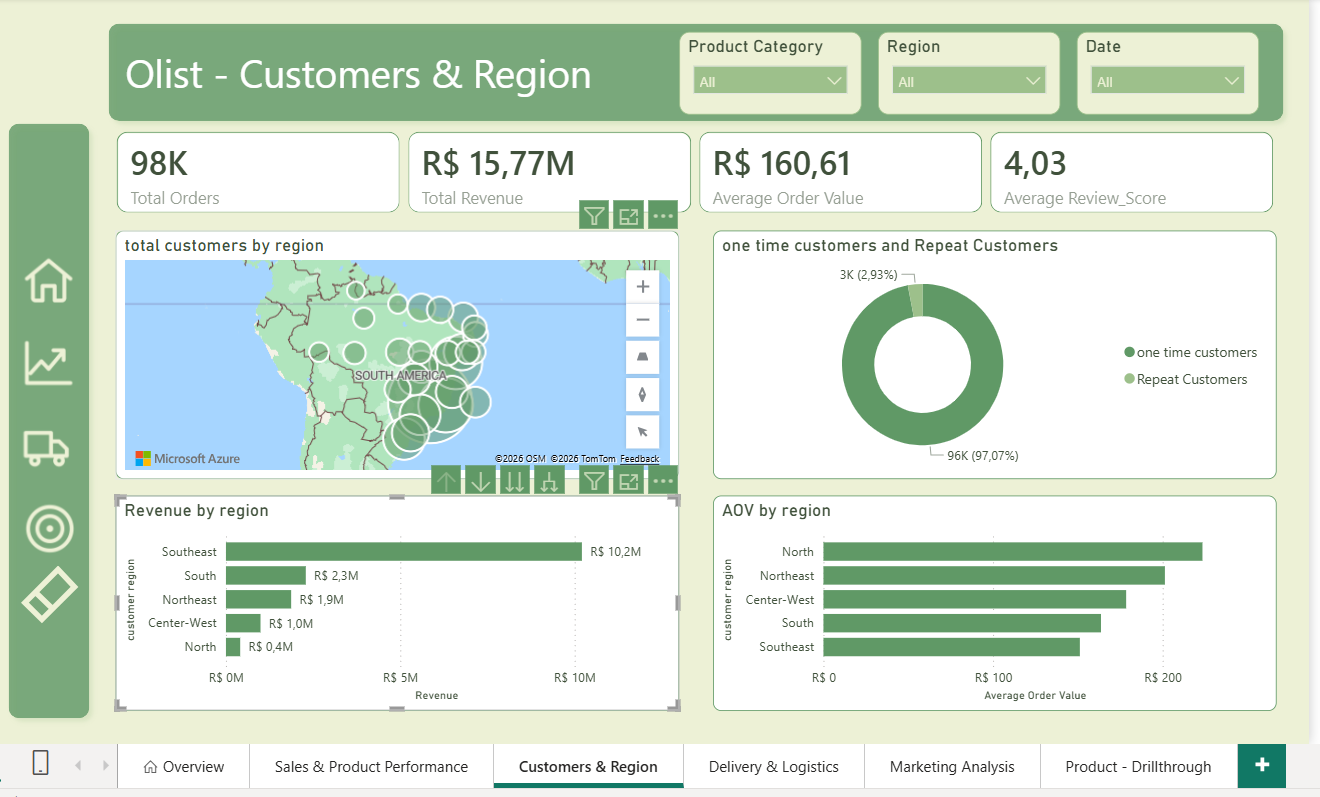

The page's visual inventory and layout, read from the dashboard file:
{"tool":"powerbi","page":{"name":"Customers & Region","canvas":[1280,720],"ordinal":2},"visuals":[{"type":"shape","box":[112,16,1152,112],"z":0},{"type":"shape","box":[16.1,112,96,592],"z":0,"group":"g1"},{"type":"slicer","title":"Product Category","fields":{"Values":["olist_products4.product_category_name_english"]},"box":[672,32,176,80],"z":1000},{"type":"actionButton","box":[32.1,240,64,64],"z":1000,"group":"g1"},{"type":"slicer","title":"Region","fields":{"Values":["olist_customers2.customer region Hierarchy.customer region","olist_customers2.customer region Hierarchy.customer_city"]},"box":[864,32,176,80],"z":2000},{"type":"actionButton","box":[32.1,320,64,64],"z":2000,"group":"g1"},{"type":"group","id":"g1","title":"Group 1","box":[16.1,112,96,592],"z":3000},{"type":"actionButton","box":[32.1,400,64,64],"z":3000,"group":"g1"},{"type":"cardVisual","fields":{"Data":["MyMeasure.Total Orders","MyMeasure.Revenue","MyMeasure.Average per Order","Avg(olist_orders1.review_score)"]},"box":[112,112,1152,112],"z":4000},{"type":"actionButton","box":[32.1,544,64,64],"z":5000},{"type":"slicer","title":"Date","fields":{"Values":["Calendar.Year Hierarchy.Year","Calendar.Year Hierarchy.Quarter","Calendar.Year Hierarchy.Month"]},"box":[1056,32,176,80],"z":6000},{"type":"barChart","title":"Revenue by region","fields":{"Y":["MyMeasure.Revenue"],"Category":["olist_customers2.customer region Hierarchy.customer region","olist_customers2.customer region Hierarchy.customer_city"]},"box":[128,480,544,208],"z":7000},{"type":"clusteredBarChart","title":"AOV by region","fields":{"Category":["olist_customers2.customer region Hierarchy.customer region","olist_customers2.customer region Hierarchy.customer_city"],"Y":["MyMeasure.Average Order Value"]},"box":[704,480,544,208],"z":8000},{"type":"donutChart","fields":{"Y":["MyMeasure.total customers","MyMeasure.Repeat Customers"]},"box":[704,224,544,240],"z":9000},{"type":"azureMap","title":"total customers by region","fields":{"Y":["Min(olist_customers2.geolocation_lat)"],"X":["Min(olist_customers2.geolocation_lng)"],"Category":["olist_customers2.customer_state"],"Size":["MyMeasure.total customers"]},"box":[128,224,544,240],"z":10000},{"type":"actionButton","box":[32,480,64,64],"z":11000}]}

Visuals, with their boxes on the page's 1280x720 design canvas (x1, y1, x2, y2). These are canvas units, not pixel positions in the 1320x797 screenshot, which may show the page scaled, cropped or inside an application window:
shape: [left=112, top=16, right=1264, bottom=128]
shape: [left=16, top=112, right=112, bottom=704]
"Product Category" slicer: [left=672, top=32, right=848, bottom=112]
actionButton: [left=32, top=240, right=96, bottom=304]
"Region" slicer: [left=864, top=32, right=1040, bottom=112]
actionButton: [left=32, top=320, right=96, bottom=384]
"Group 1" group: [left=16, top=112, right=112, bottom=704]
actionButton: [left=32, top=400, right=96, bottom=464]
cardVisual - MyMeasure.Total Orders x MyMeasure.Revenue: [left=112, top=112, right=1264, bottom=224]
actionButton: [left=32, top=544, right=96, bottom=608]
"Date" slicer: [left=1056, top=32, right=1232, bottom=112]
"Revenue by region" barChart: [left=128, top=480, right=672, bottom=688]
"AOV by region" clusteredBarChart: [left=704, top=480, right=1248, bottom=688]
donutChart - MyMeasure.total customers x MyMeasure.Repeat Customers: [left=704, top=224, right=1248, bottom=464]
"total customers by region" azureMap: [left=128, top=224, right=672, bottom=464]
actionButton: [left=32, top=480, right=96, bottom=544]
